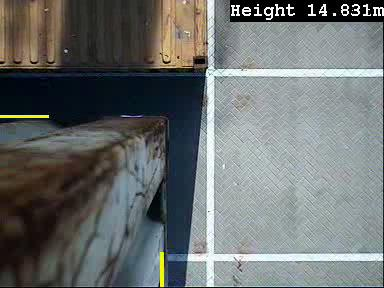groundmarker_2: (174, 168, 233, 201)
